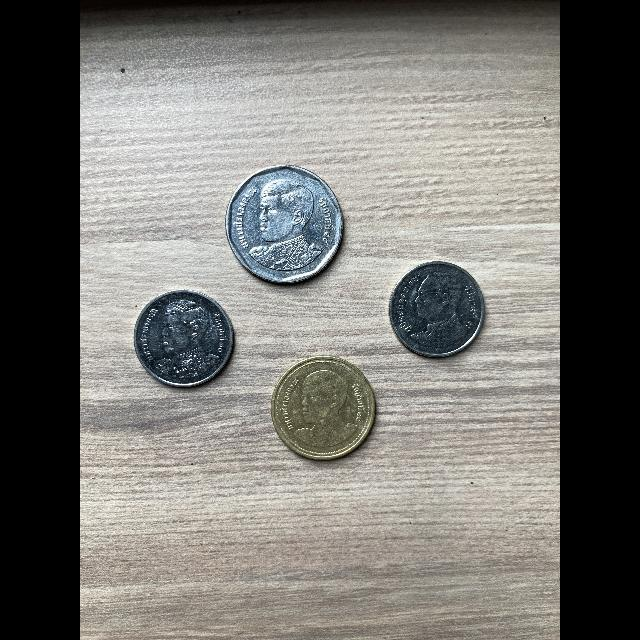1 Bath: (133, 289, 237, 392), (387, 260, 490, 363)
2 Bath: (270, 351, 381, 466)
5 Bath: (226, 161, 348, 288)
